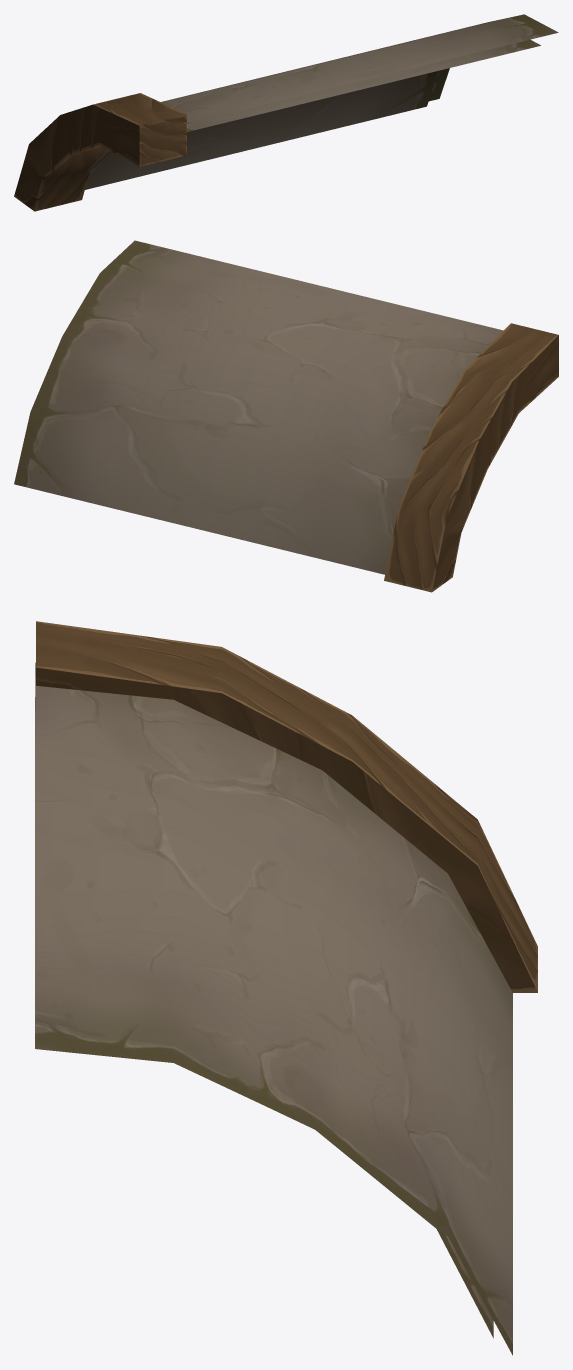
Rendered from Ceiling_1_1_half.FBX.
The picture shows the model from 3 angles, top to bottom: view 1: azimuth 30°, elevation 25°; view 2: azimuth 150°, elevation 25°; view 3: azimuth 270°, elevation 25°; orthographic projection. The views are drawn at different scales.
Visible parts, largest first — view 1: Ceiling_1_1_half; view 2: Ceiling_1_1_half; view 3: Ceiling_1_1_half.
Boxes of the visible parts, x1,y1,x2,y2 form: Ceiling_1_1_half: (14,14,558,211); Ceiling_1_1_half: (14,240,558,592); Ceiling_1_1_half: (35,621,537,1355).
Size of what is drawn, in the model's own units: 212 by 110 by 78.6.
